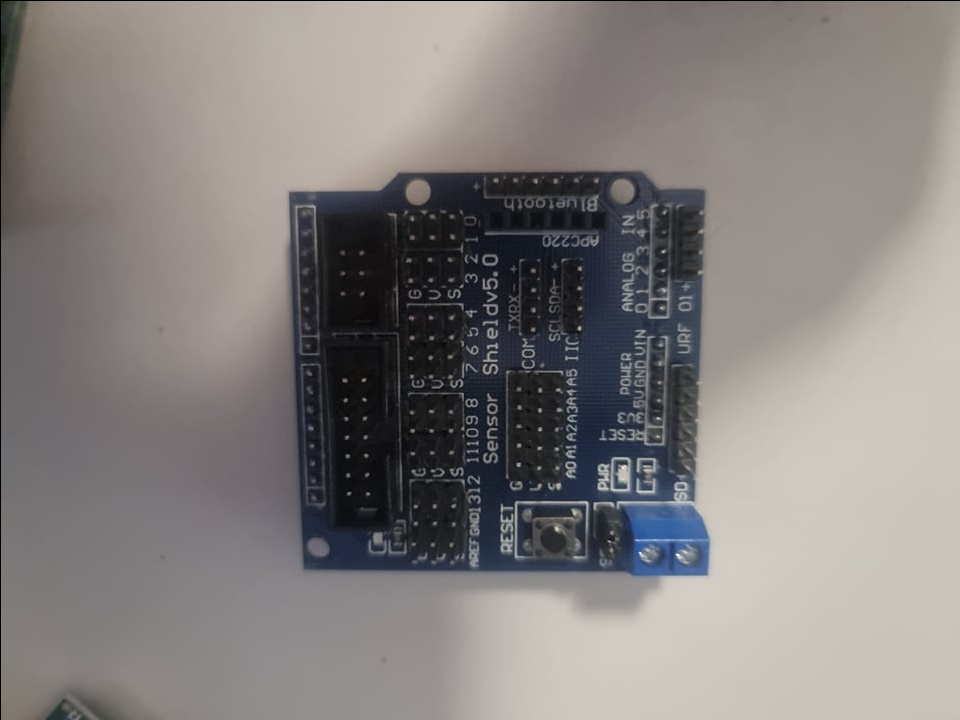5V EXPANSION: (280, 169, 711, 575)
